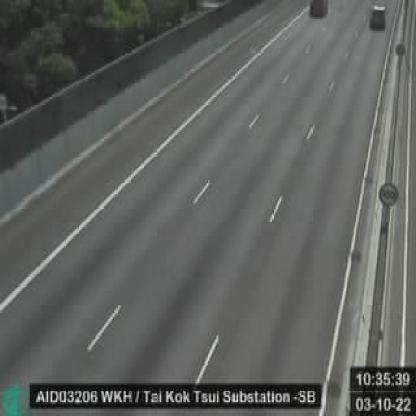Car: (368, 3, 385, 28)
